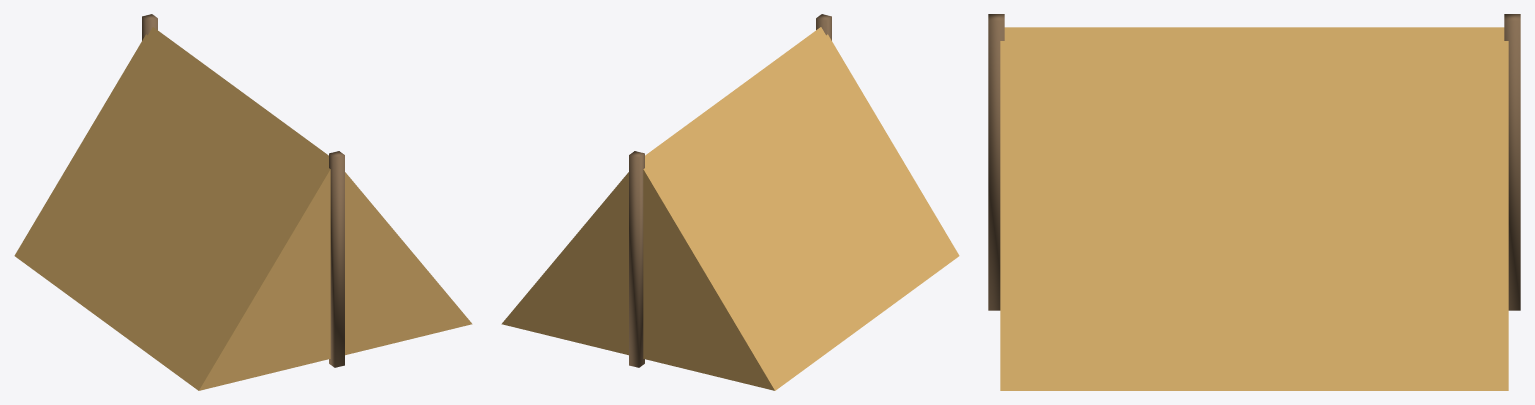
The model's file is Set_CampingTent_Hybrid.glb.
The picture shows the model from 3 angles, left to right: view 1: azimuth 30°, elevation 25°; view 2: azimuth 150°, elevation 25°; view 3: azimuth 270°, elevation 25°; orthographic projection. The views are drawn at different scales.
Visible parts, largest first — view 1: Tent_Body, Tent_PoleF; view 2: Tent_Body, Tent_PoleB; view 3: Tent_Body, Tent_PoleB, Tent_PoleF.
Part boxes in pixels (left/top/right/bottom): Tent_Body: left=14, top=27, right=472, bottom=390; Tent_PoleF: left=329, top=151, right=344, bottom=367; Tent_Body: left=501, top=27, right=959, bottom=390; Tent_PoleB: left=629, top=151, right=644, bottom=367; Tent_Body: left=1000, top=27, right=1508, bottom=390; Tent_PoleB: left=1504, top=14, right=1520, bottom=310; Tent_PoleF: left=988, top=14, right=1004, bottom=310.
Size of the model in its own units: 2.4 by 1.76 by 2.93.
